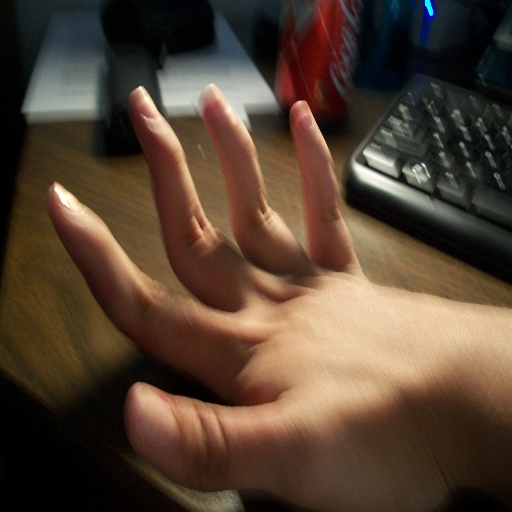hand: (44, 78, 456, 511)
